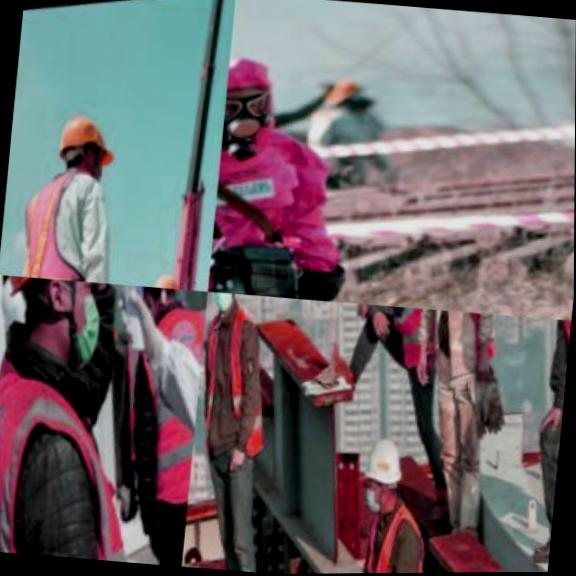safety_vest: (0, 294, 204, 568), (208, 100, 406, 306), (107, 294, 206, 513), (2, 146, 137, 285), (192, 296, 298, 465), (341, 303, 452, 389), (352, 489, 460, 573), (401, 307, 517, 372), (534, 318, 572, 415)
